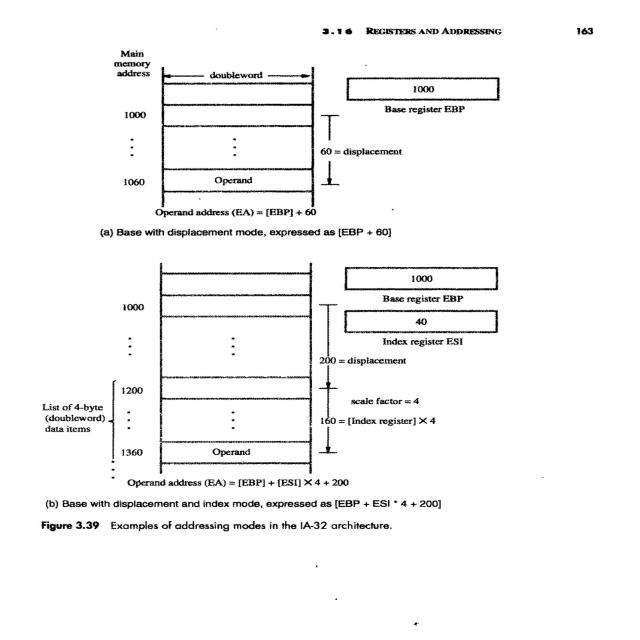diagram: (88, 36, 640, 488)
